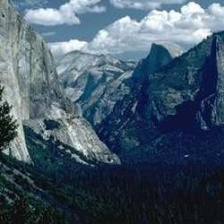neutral: (1, 2, 221, 222)
